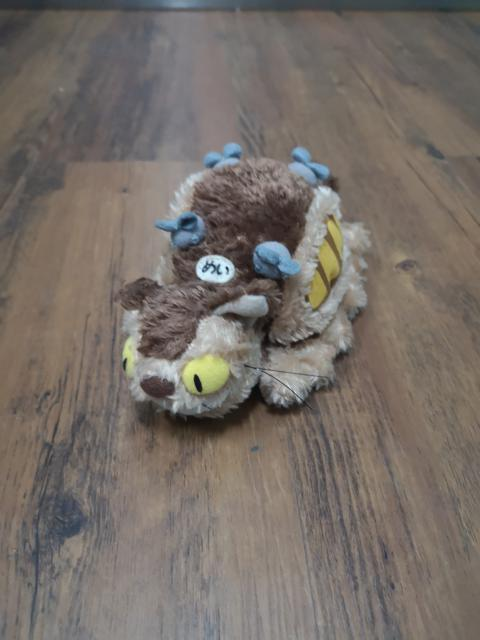nekobus: (109, 138, 376, 429)
